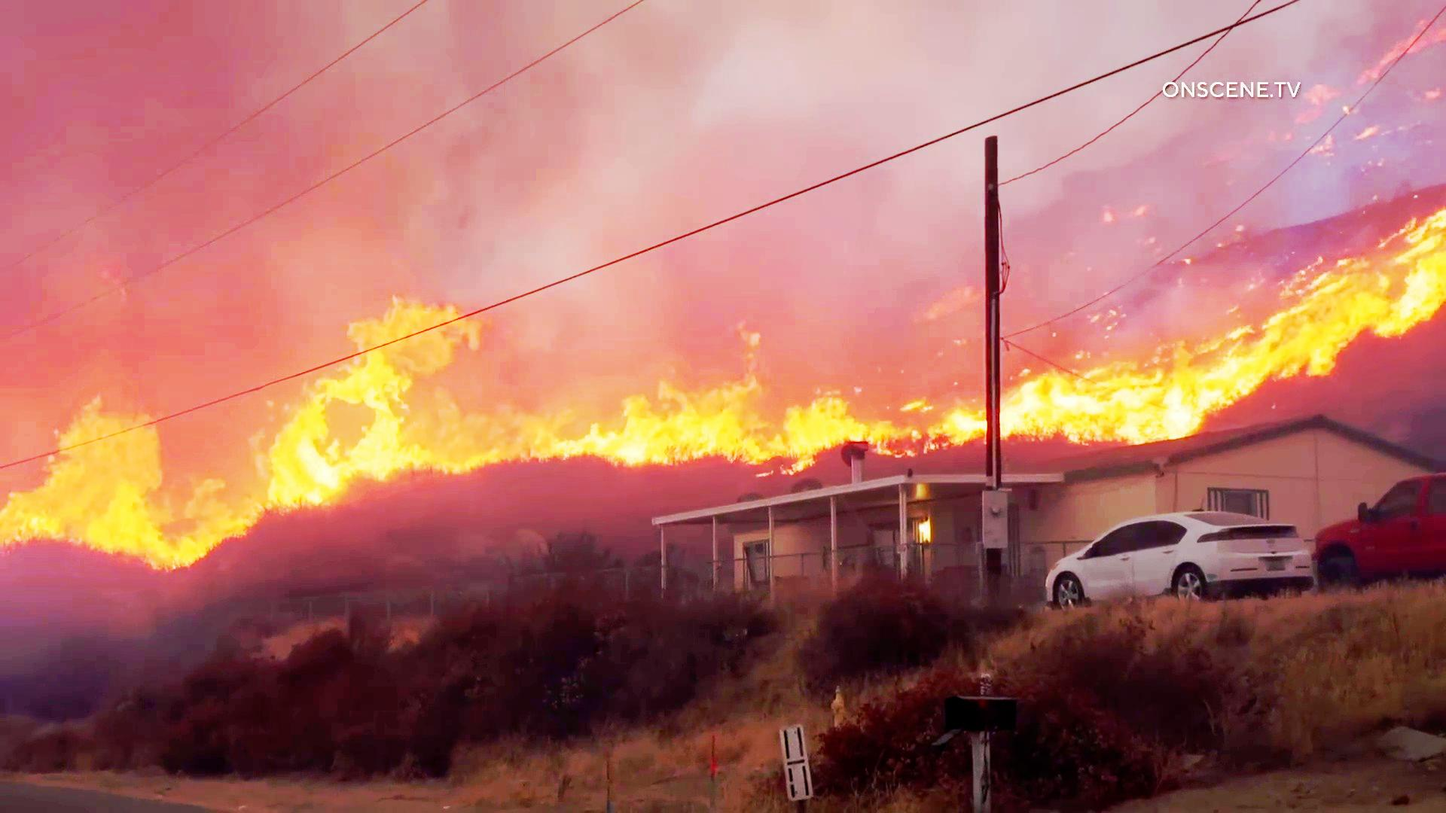fire: (998, 209, 1444, 455), (552, 335, 984, 475), (246, 288, 505, 491), (0, 381, 204, 580)
smoke: (0, 0, 563, 264)
